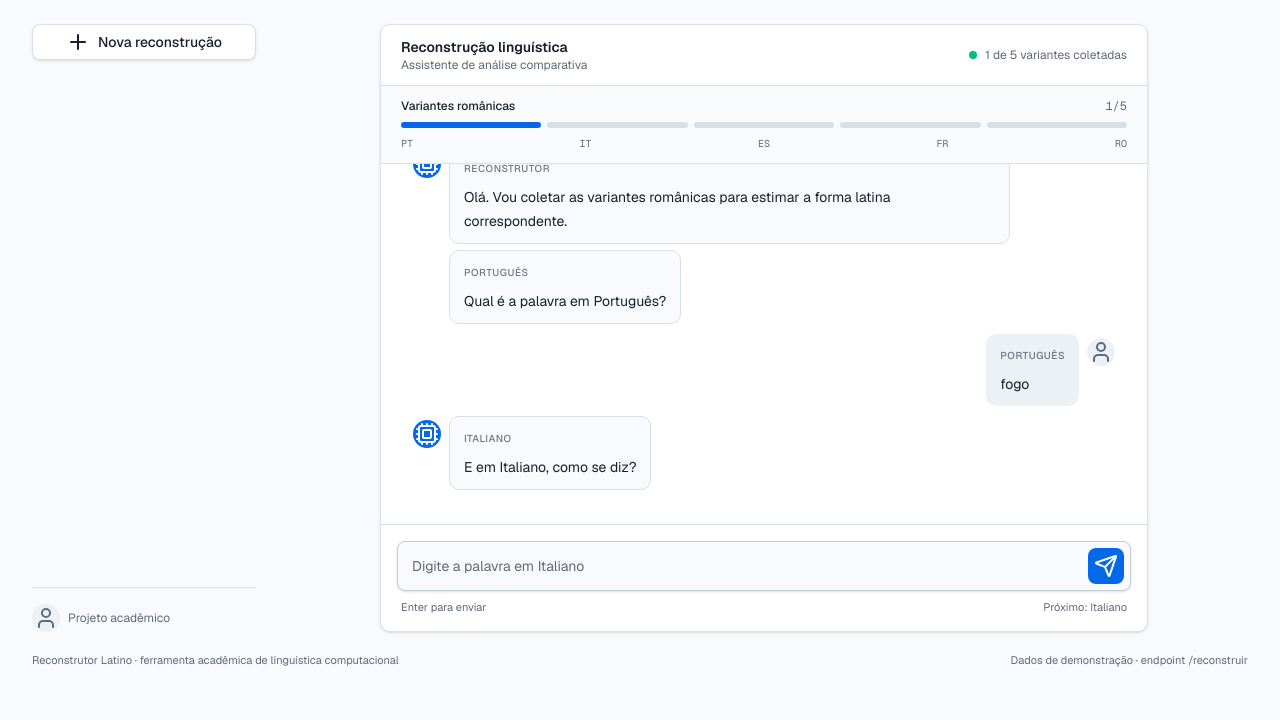
Test: Fluxo do Reconstrutor Latino › exibe uma mensagem clara quando a reconstrução falha
Earlier steps of the test are not shown.
(page scrolled)
Expected: the text "E em Italiano, como se diz?" is shown, [464, 455, 636, 479]
Type "fuoco" into the field. click: {"x": 742, "y": 566}
box: [404, 548, 1080, 584]
Click the button named "Enviar resposta". click: {"x": 1106, "y": 566}
box: [1088, 548, 1124, 584]
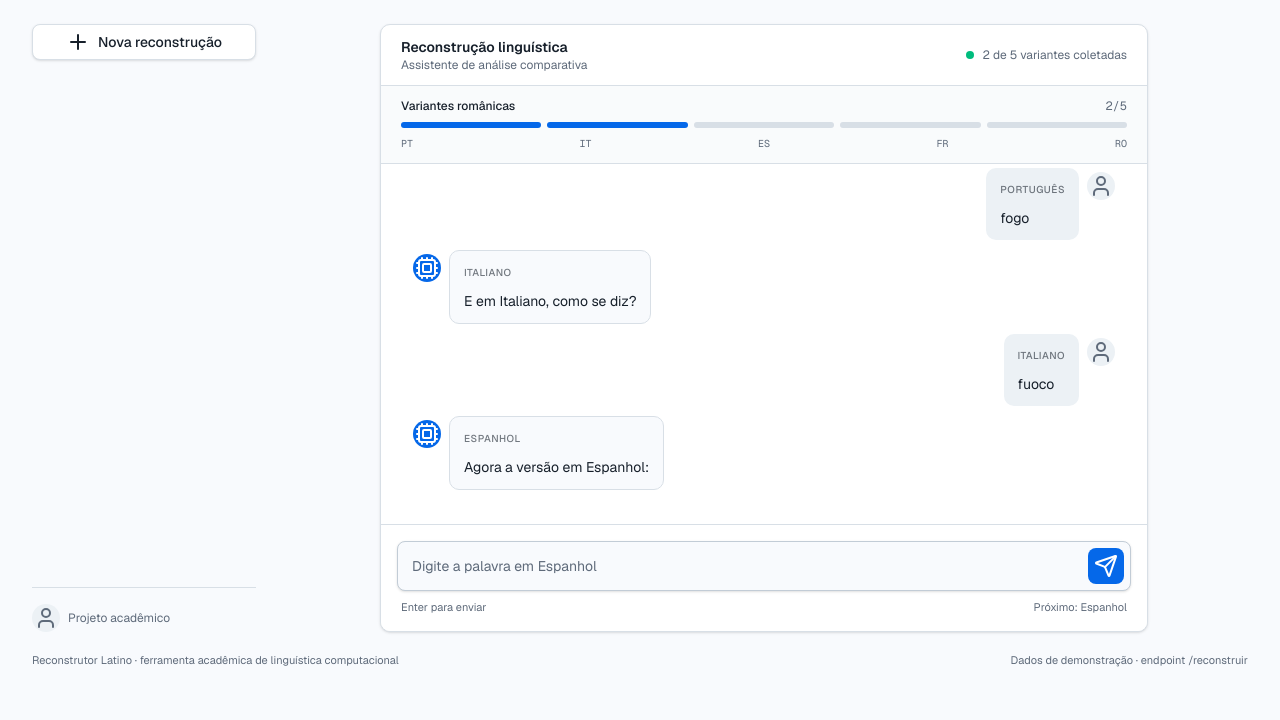
Expected: the text "Agora a versão em Espanhol:" is shown, [464, 455, 649, 479]
Type "fuego" into the field. click: {"x": 742, "y": 566}
box: [404, 548, 1080, 584]
Click the button named "Enviar resposta". click: {"x": 1106, "y": 566}
box: [1088, 548, 1124, 584]
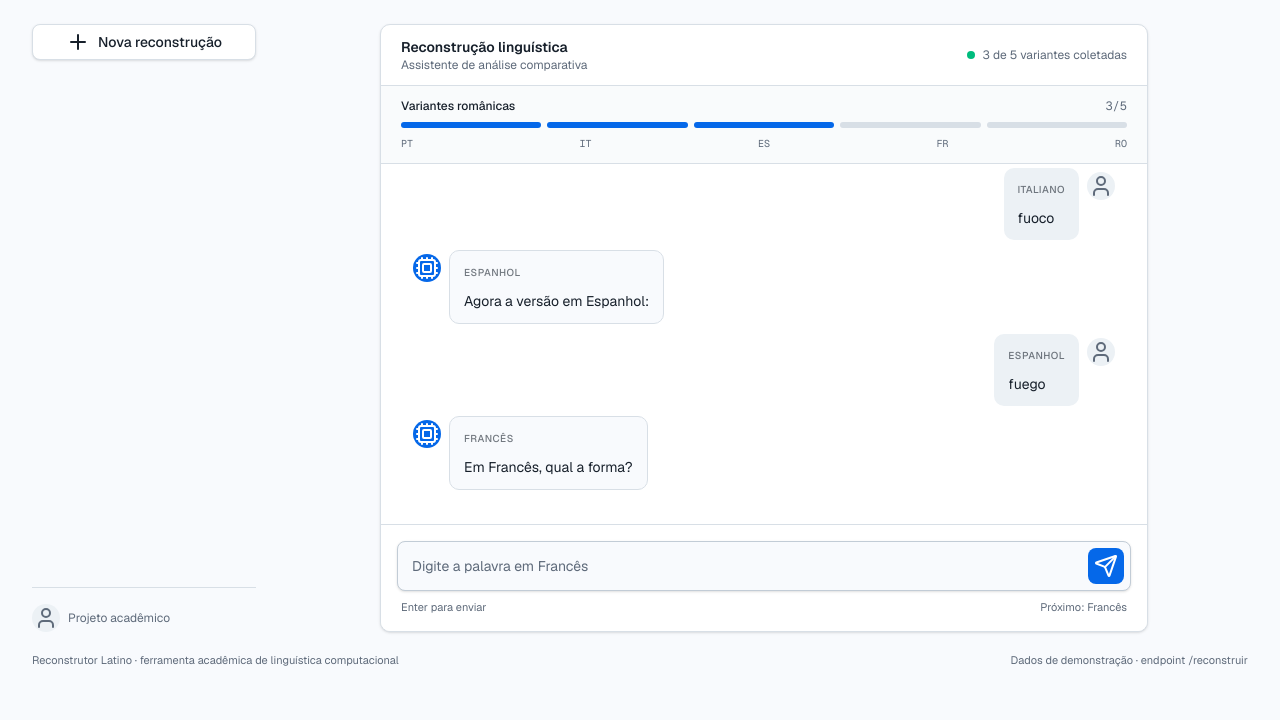
Expected: the text "Em Francês, qual a forma?" is shown, [464, 455, 633, 479]
Type "feu" into the field. click: {"x": 742, "y": 566}
box: [404, 548, 1080, 584]
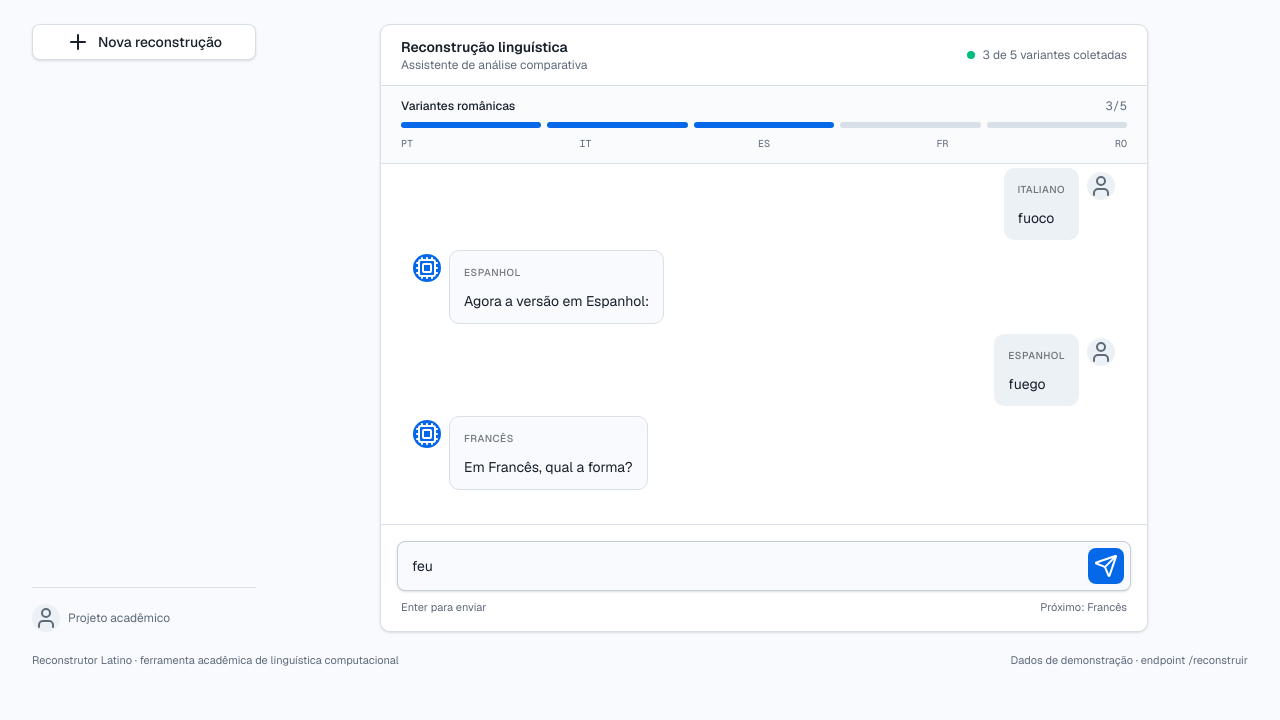
Click the button named "Enviar resposta". click: {"x": 1106, "y": 566}
box: [1088, 548, 1124, 584]
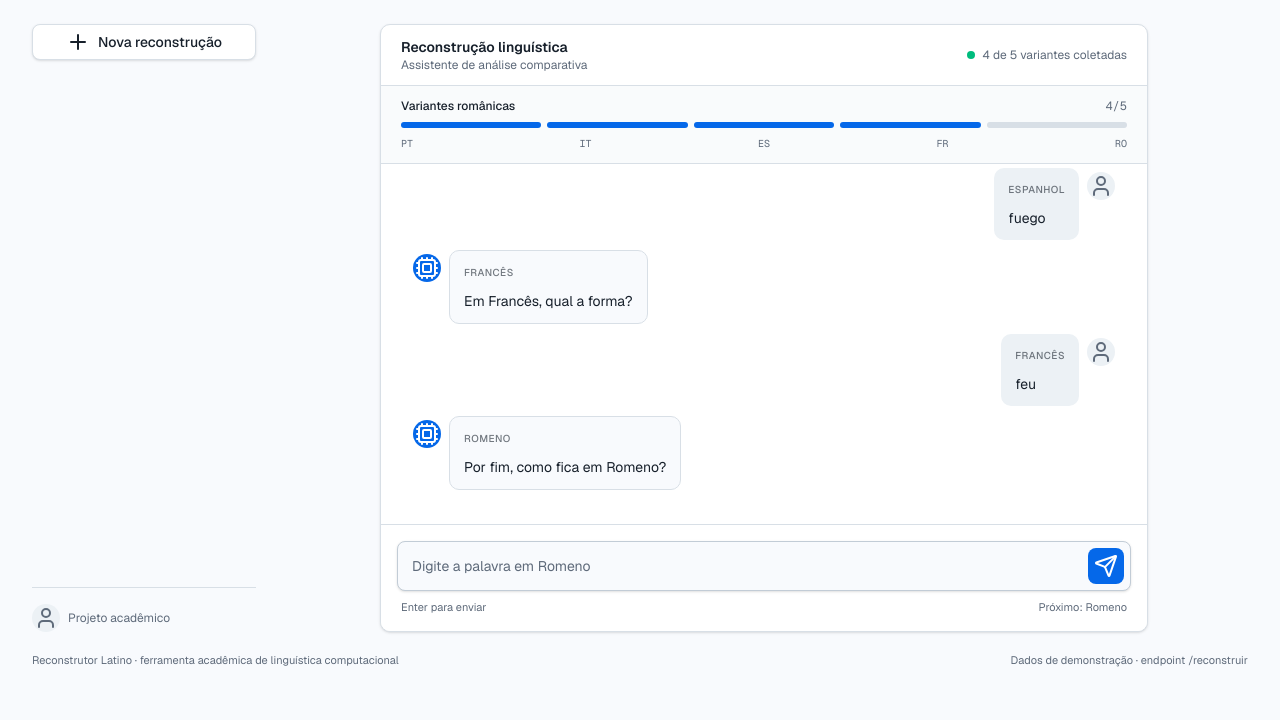
Expected: the text "Por fim, como fica em Romeno?" is shown, [464, 455, 666, 479]
Type "foc" into the field. click: {"x": 742, "y": 566}
box: [404, 548, 1080, 584]
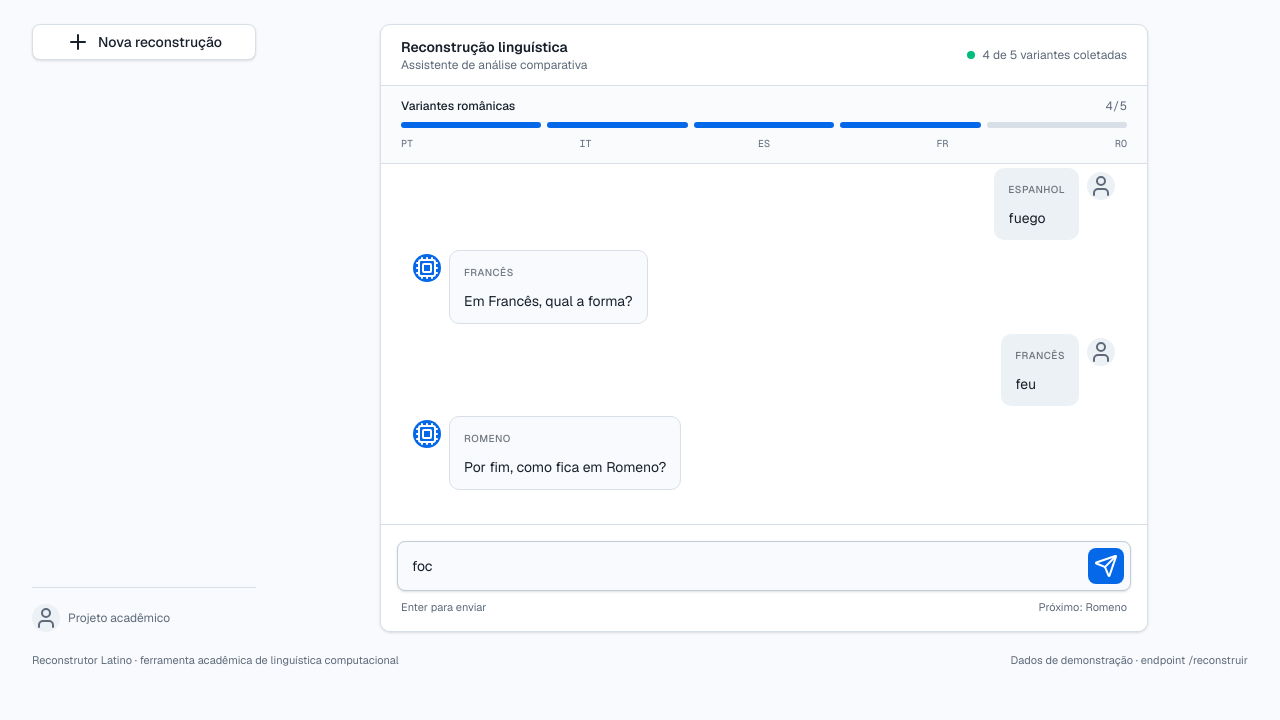
Click the button named "Enviar resposta". click: {"x": 1106, "y": 566}
box: [1088, 548, 1124, 584]
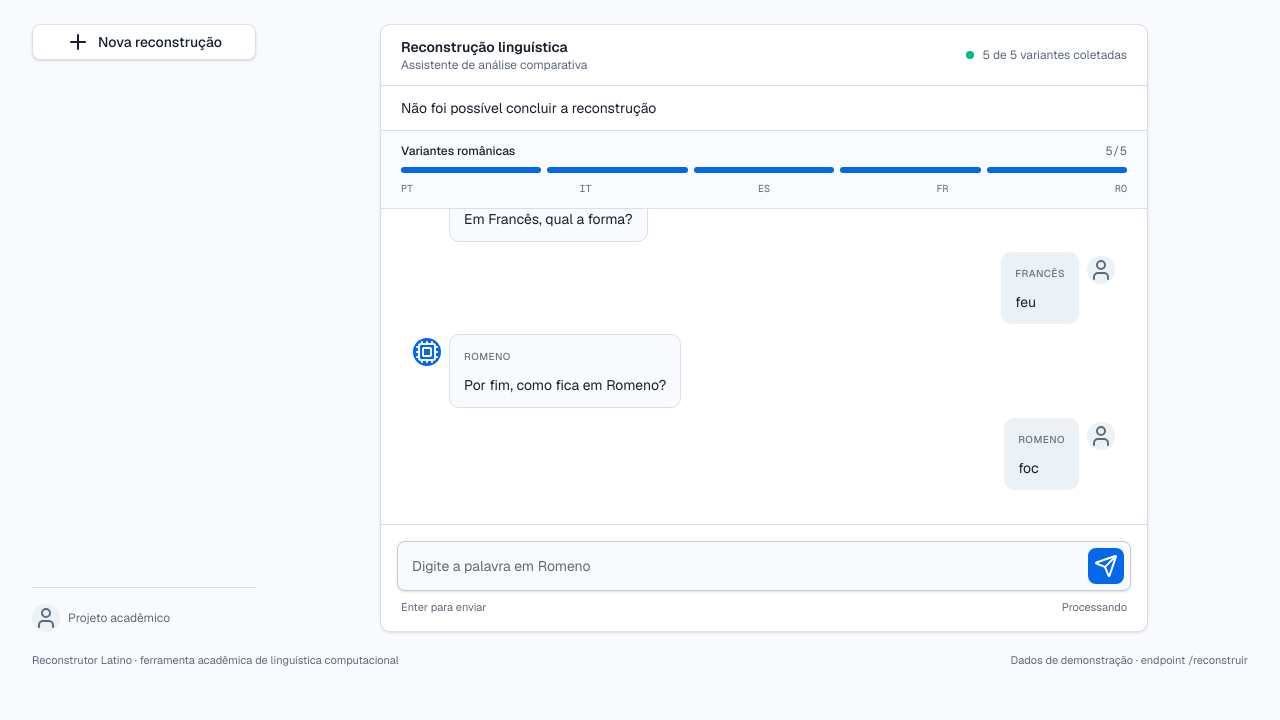
Expected: the field is enabled, [404, 548, 1080, 584]
Expected: the message reads "Não foi possível concluir a reconstrução", [401, 99, 656, 117]
